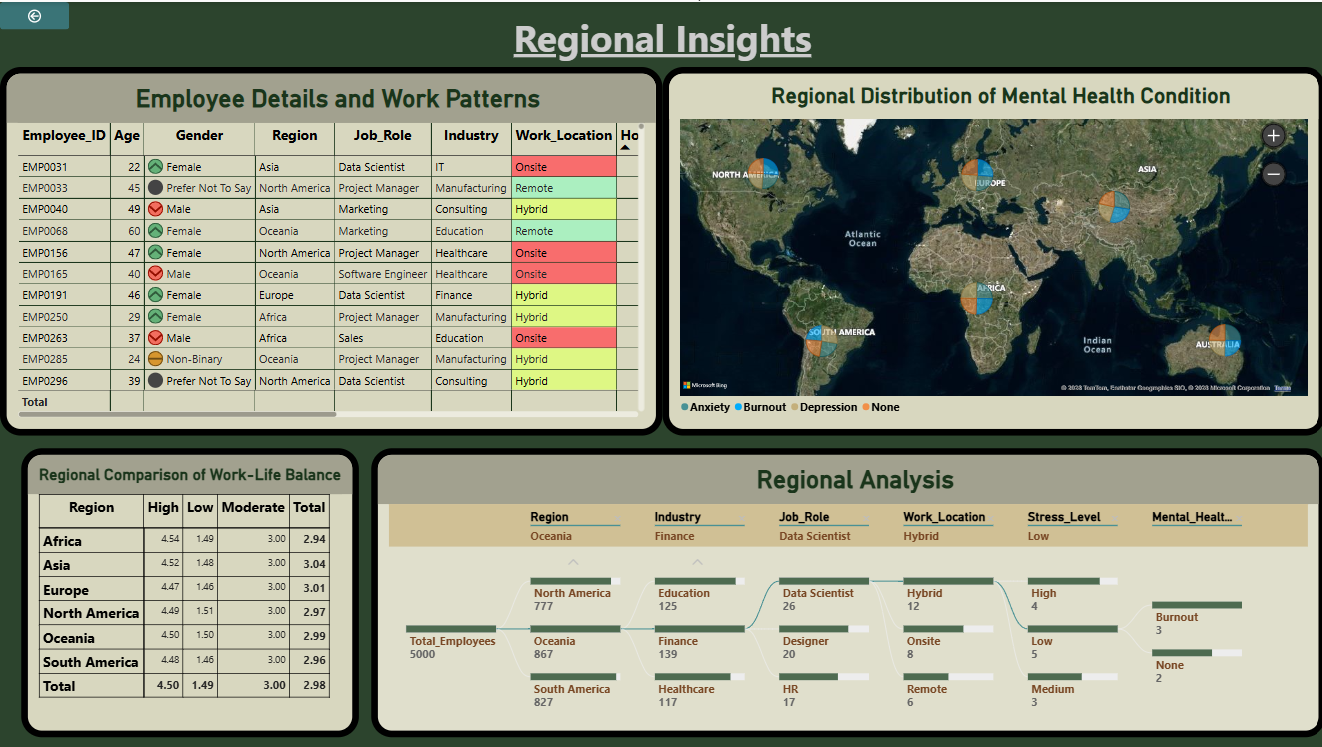

What the dashboard file says about the page in this screenshot:
{"tool":"powerbi","page":{"name":"Regional Insights","canvas":[1920,1080],"ordinal":3},"visuals":[{"type":"tableEx","title":"Employee Details and Work Patterns","fields":{"Values":["Cleaned_Data1.Employee_ID","Cleaned_Data1.Age","Cleaned_Data1.Gender","Cleaned_Data1.Region","Cleaned_Data1.Job_Role","Cleaned_Data1.Industry","Cleaned_Data1.Work_Location","Cleaned_Data1.Hours_Worked_Per_Week","Cleaned_Data1.Stress_Level","Cleaned_Data1.Mental_Health_Condition","Cleaned_Data1.Work_Life_Balance_Rating"]},"box":[0,94.1,959.1,533.8],"z":0},{"type":"map","title":"Regional Distribution of Mental Health Condition","fields":{"Category":["Cleaned_Data1.Region"],"Series":["Cleaned_Data1.Mental_Health_Condition"],"Size":["Count(Cleaned_Data1.Employee_ID)"]},"box":[959.1,94.1,960.9,533.8],"z":1},{"type":"pivotTable","title":"Regional Comparison of Work-Life Balance","fields":{"Columns":["Cleaned_Data1.Work_Life_Balace_Category"],"Rows":["Cleaned_Data1.Region"],"Values":["Cleaned_Data1.Average_Work_Life_Balance"]},"box":[30.8,646,488.6,418],"z":2},{"type":"textbox","box":[61.5,14.5,1795.2,79.6],"z":3},{"type":"decompositionTreeVisual","title":"Regional Analysis","fields":{"Analyze":["Cleaned_Data1.Total_Employees"],"ExplainBy":["Cleaned_Data1.Region","Cleaned_Data1.Industry","Cleaned_Data1.Job_Role","Cleaned_Data1.Work_Location","Cleaned_Data1.Stress_Level","Cleaned_Data1.Mental_Health_Condition"]},"box":[537.5,646,1382.6,418],"z":4},{"type":"actionButton","box":[0,0,100,40],"z":5}]}

Visuals, with their boxes in screenshot pixels (x1, y1, x2, y2), scaled from the page's 1920x1080 canvas onto the 1322x747 screenshot:
"Employee Details and Work Patterns" tableEx: detection(0, 65, 660, 434)
"Regional Distribution of Mental Health Condition" map: detection(660, 65, 1321, 434)
"Regional Comparison of Work-Life Balance" pivotTable: detection(21, 447, 358, 736)
textbox: detection(42, 10, 1278, 65)
"Regional Analysis" decompositionTreeVisual: detection(370, 447, 1321, 736)
actionButton: detection(0, 0, 69, 28)
